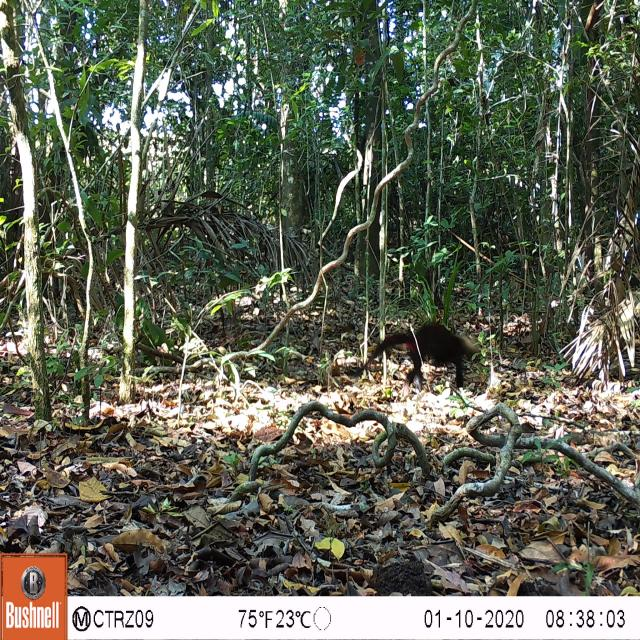Tayra: (352, 310, 492, 396)
